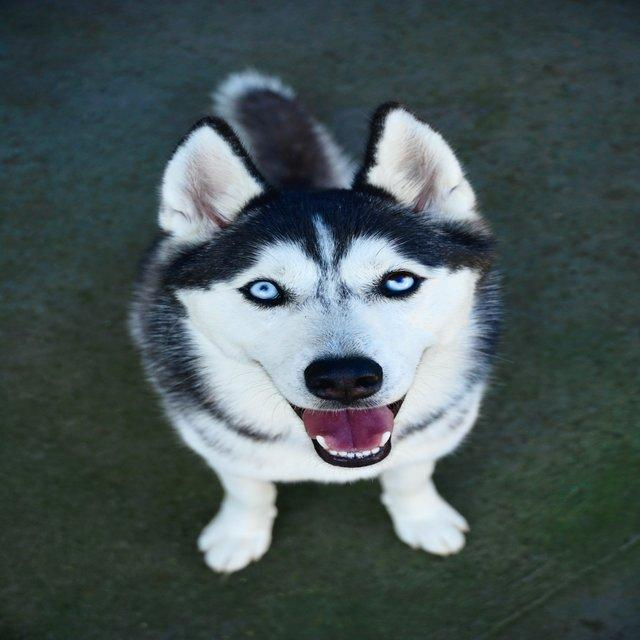husky: (126, 67, 505, 575)
